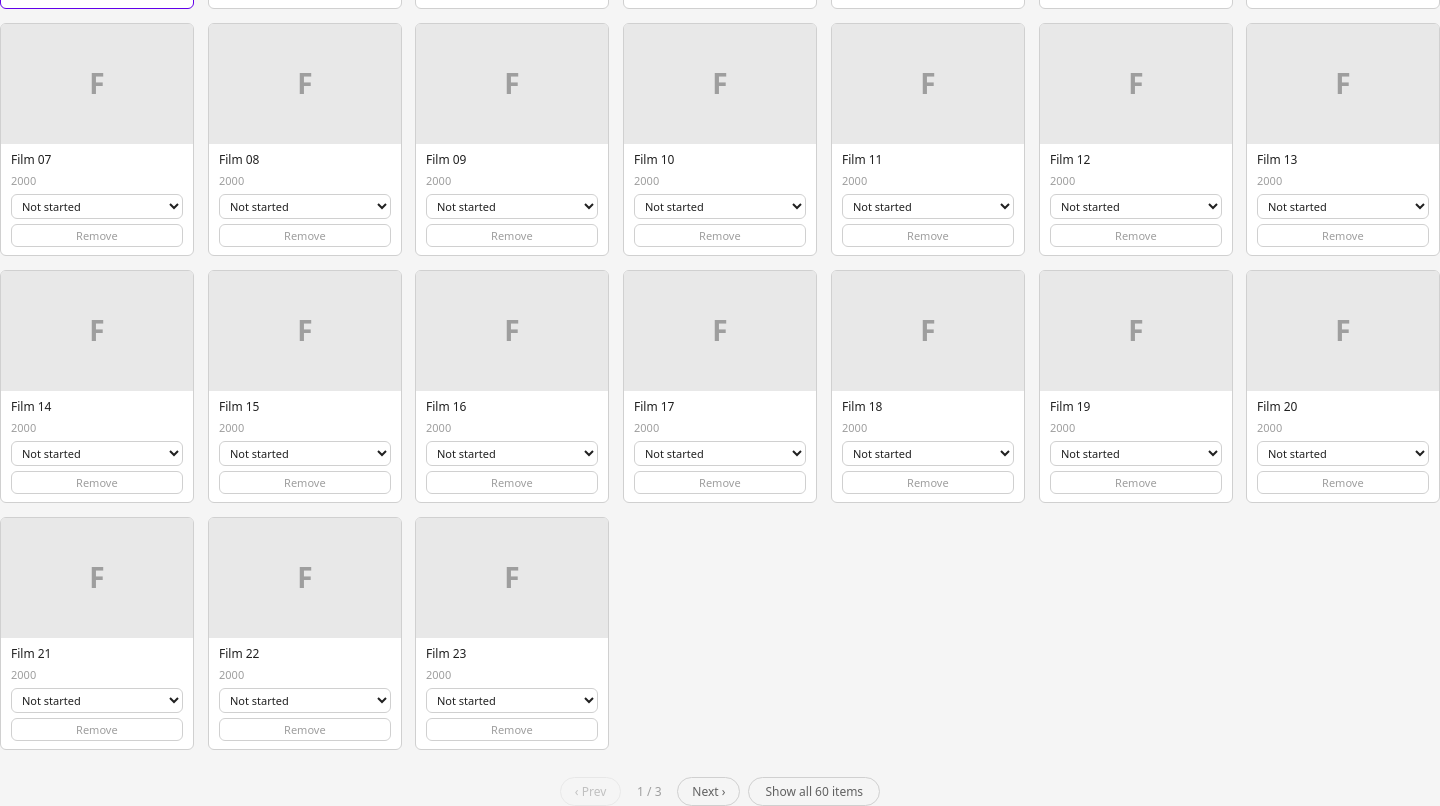
it: LibraryPage › asks for the next page from the server when paging forward
(page scrolled)
What coordinates should you click on to do the following:
click the button "Next ›"
I would click on:
 (709, 792)
Its box is [677,777,740,805].
(page scrolled)
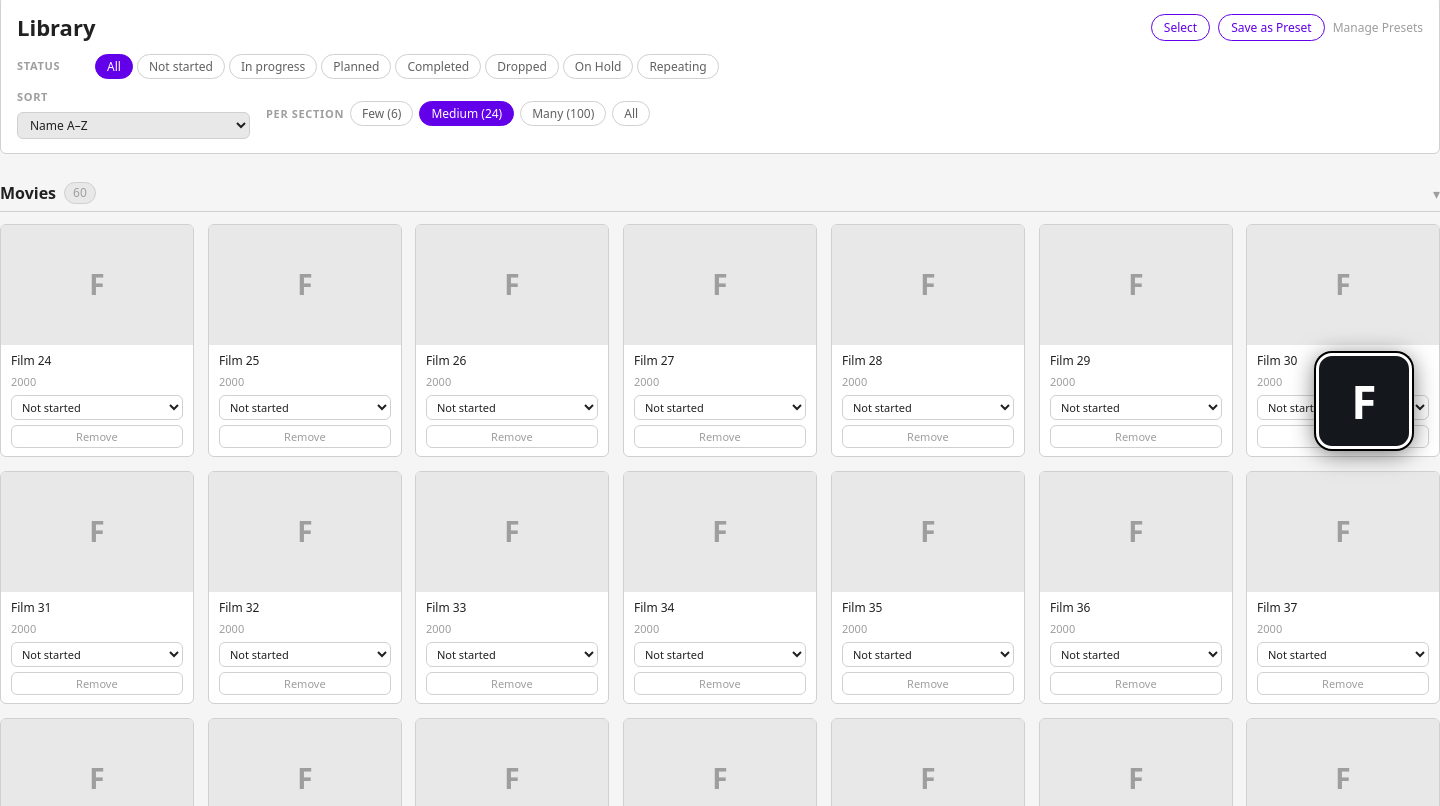
Result: the text "Film 24" is shown at [11,352,52,369]
